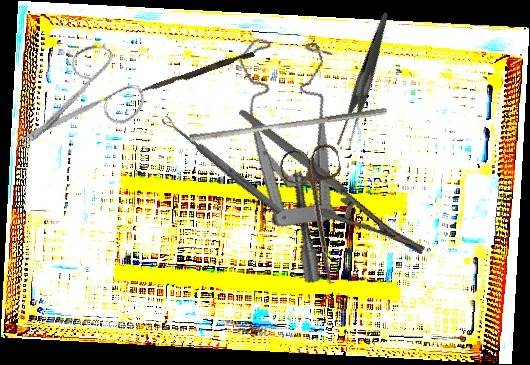Dressing Forceps: (304, 11, 428, 153)
Iris Scissors: (14, 30, 156, 179), (277, 142, 363, 289)
Needle Holder: (237, 65, 430, 298)
Pusher: (188, 99, 388, 150), (138, 48, 255, 98)
Speculum: (186, 23, 383, 288)
Surgical Spoon: (160, 113, 284, 217)
